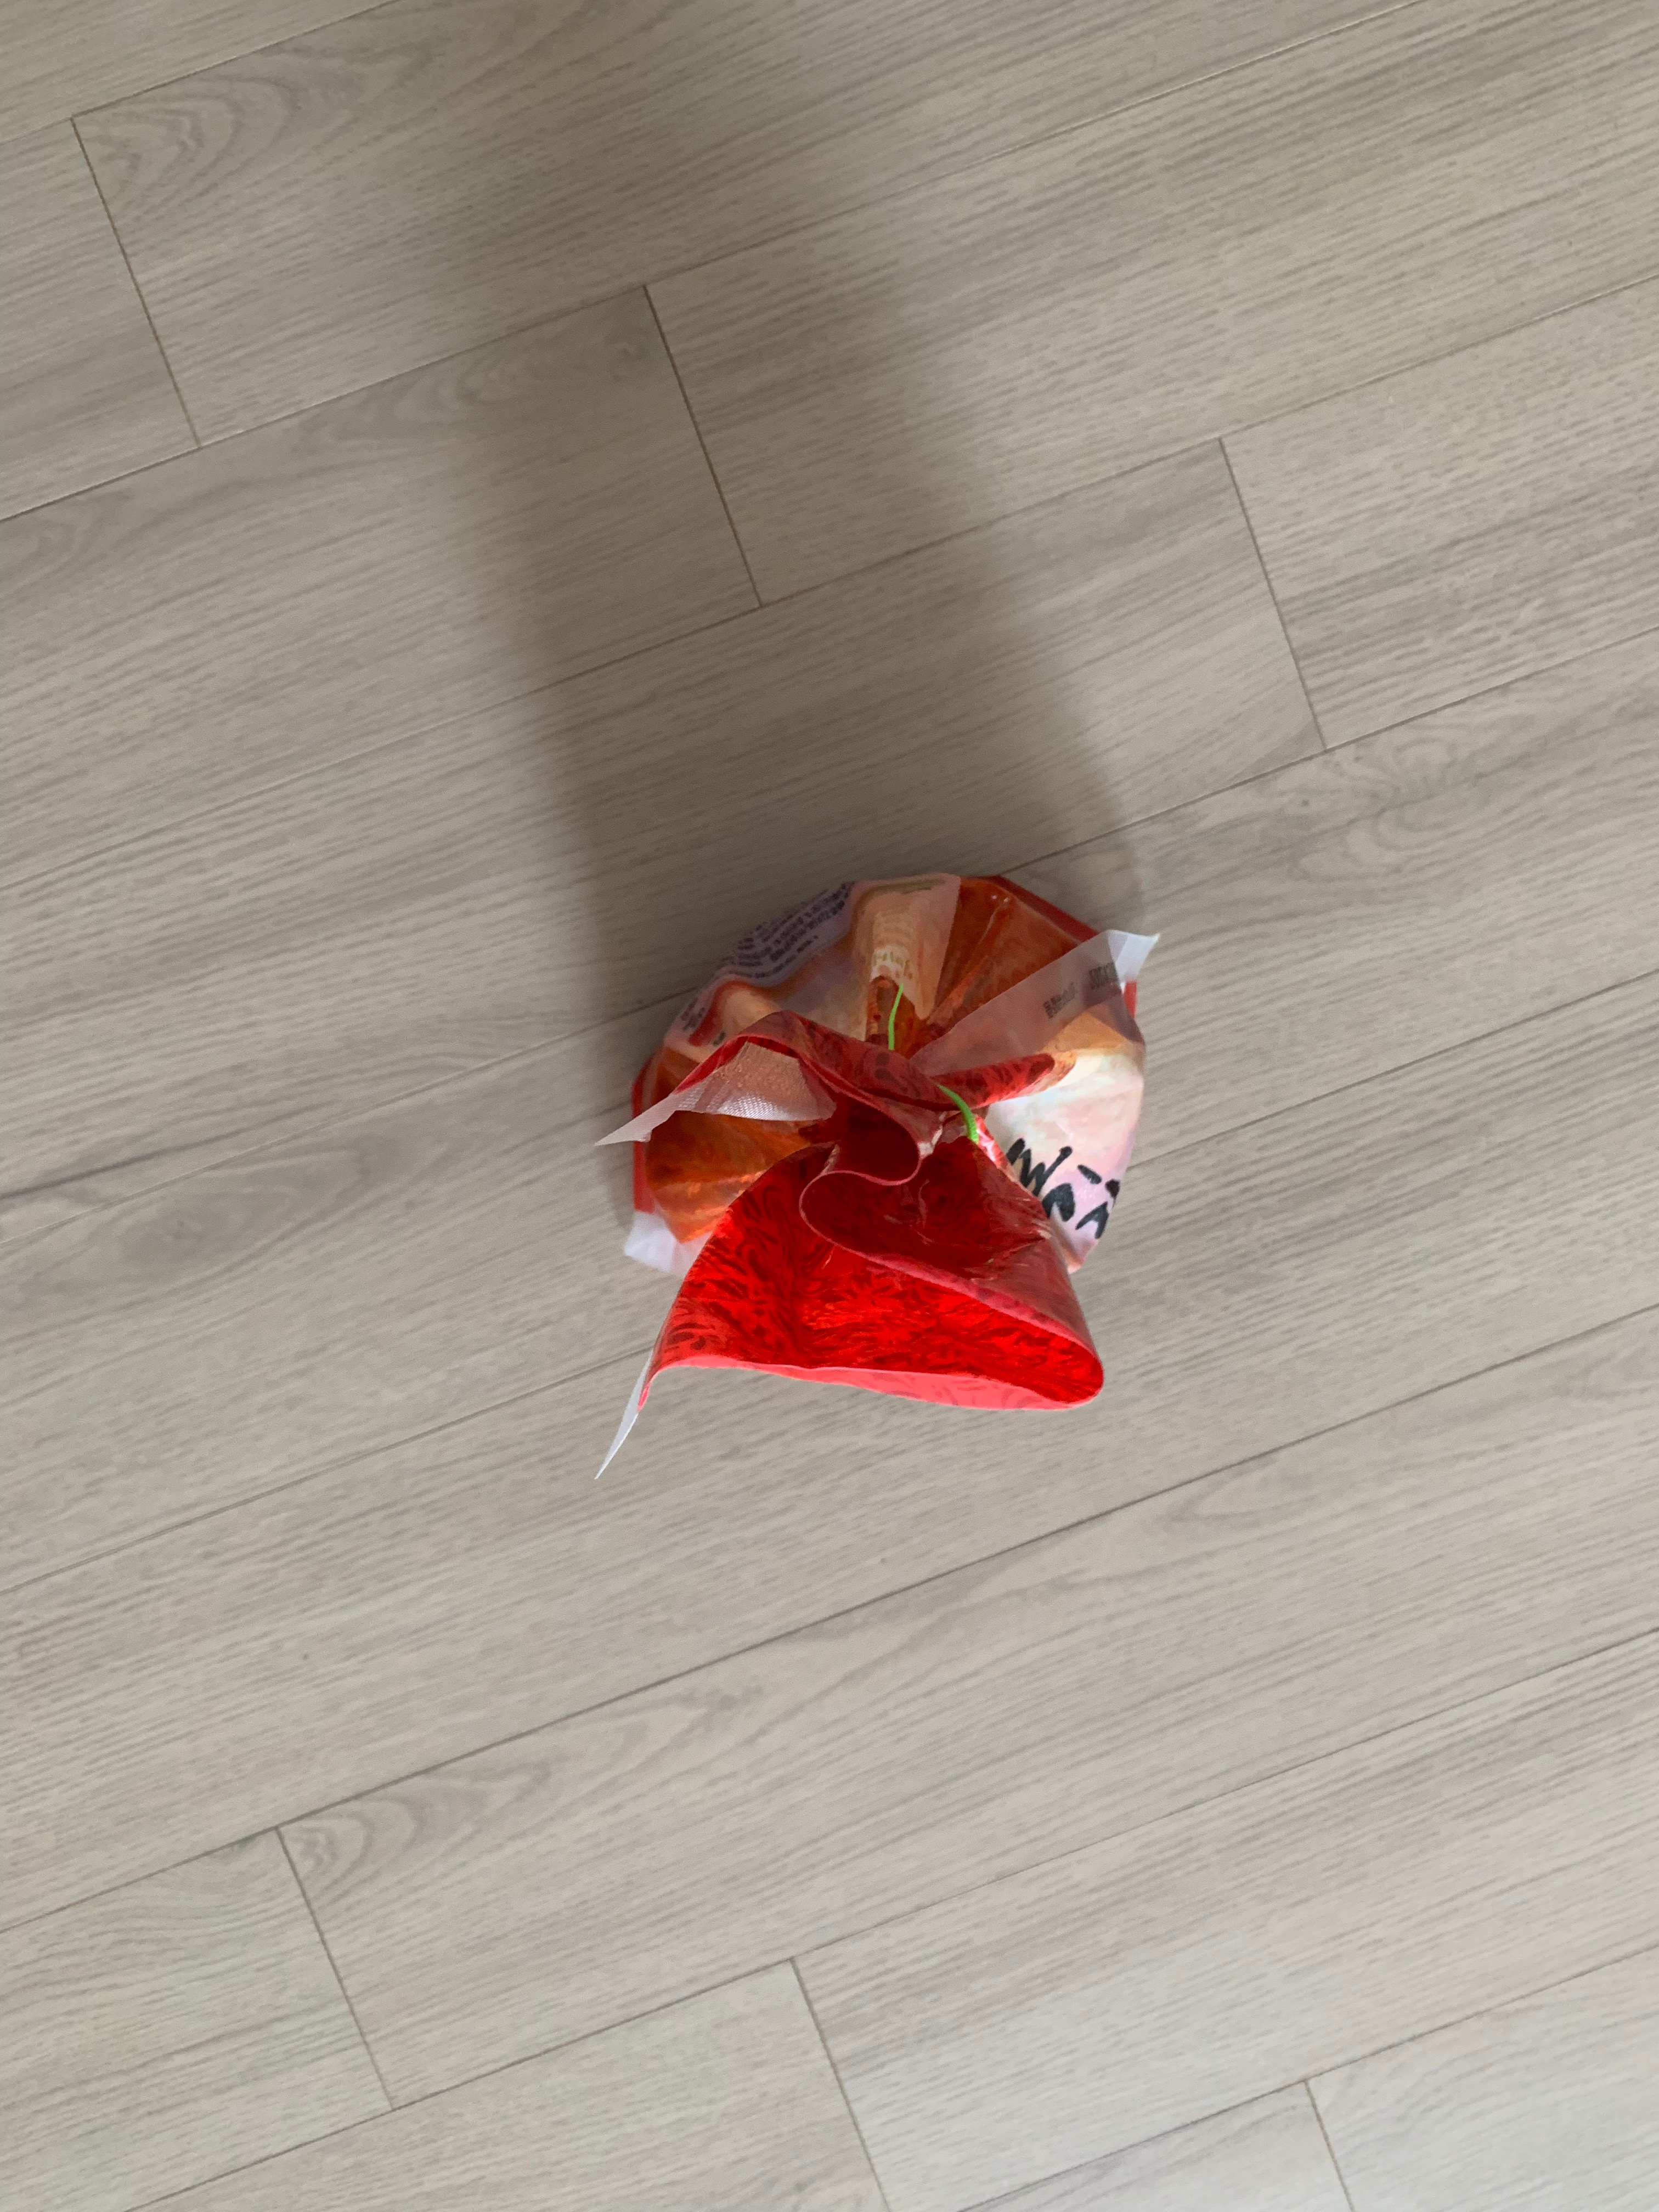kimchi: (627, 873, 1150, 1411)
